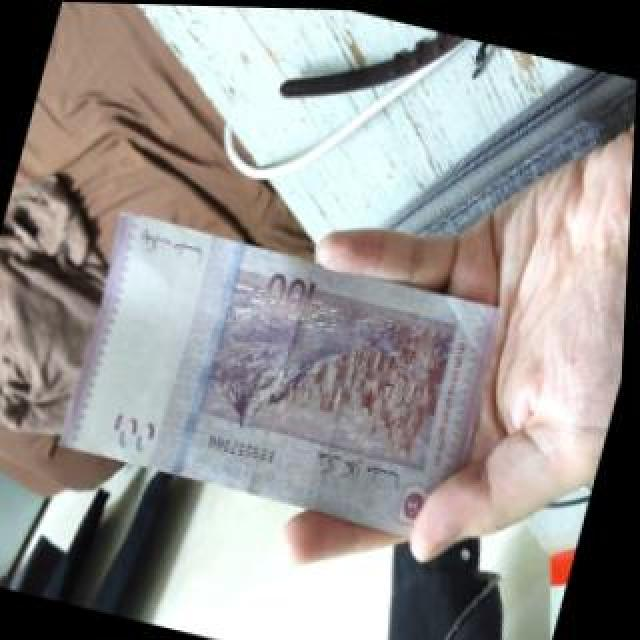100 Ringgit: (60, 210, 515, 540)
